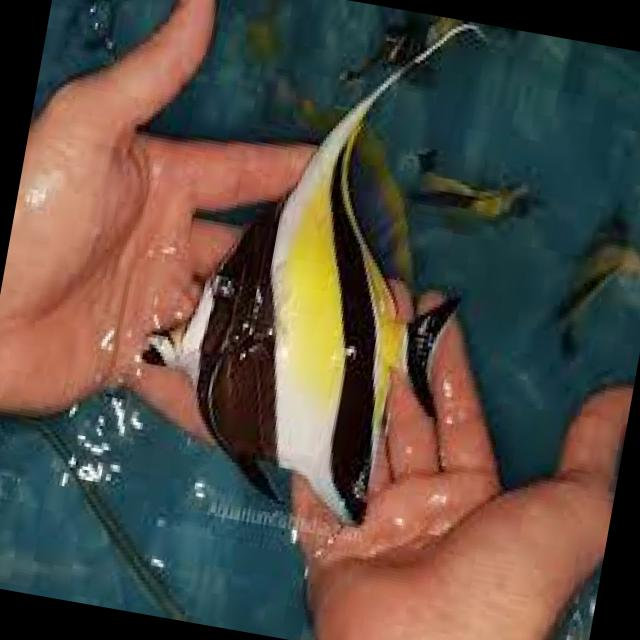MorishIdol: (112, 0, 493, 537)
